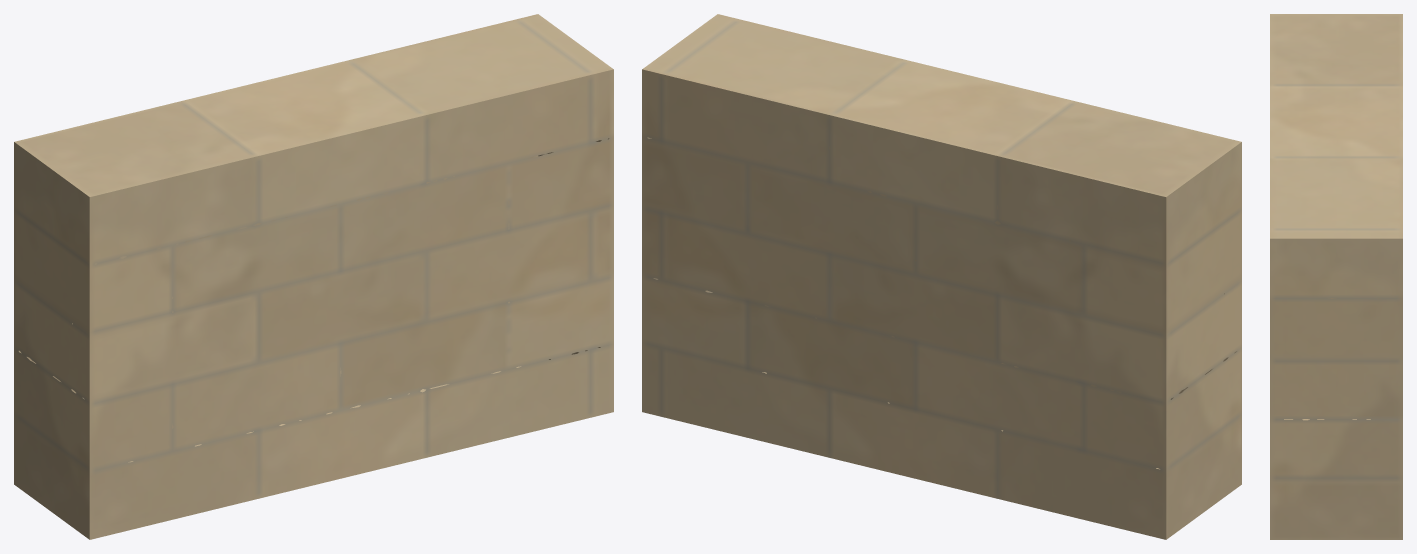
The picture shows the model from 3 angles, left to right: view 1: azimuth 30°, elevation 25°; view 2: azimuth 150°, elevation 25°; view 3: azimuth 270°, elevation 25°; orthographic projection. The views are drawn at different scales.
Visible parts, largest first — view 1: L14_Baked; view 2: L14_Baked; view 3: L14_Baked.
Part boxes in pixels (x1,y1,x2,y2): L14_Baked: (14, 14, 613, 539); L14_Baked: (642, 14, 1241, 539); L14_Baked: (1270, 14, 1402, 539).
Bounding box in the file's own units: 200 × 125 × 50.
